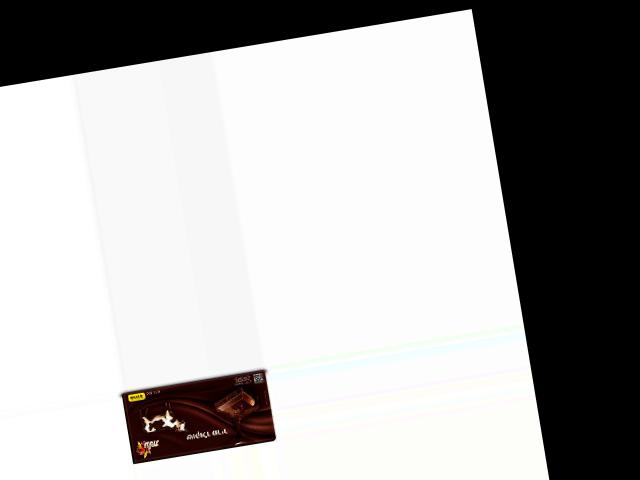chocolate: (117, 369, 274, 465)
